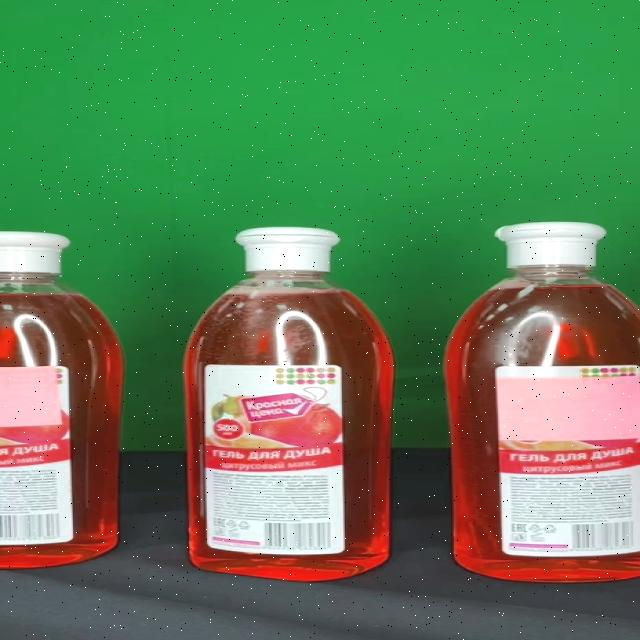Bottle: (183, 230, 395, 582), (441, 223, 640, 583)
Cap: (496, 224, 606, 268), (234, 229, 341, 272)
